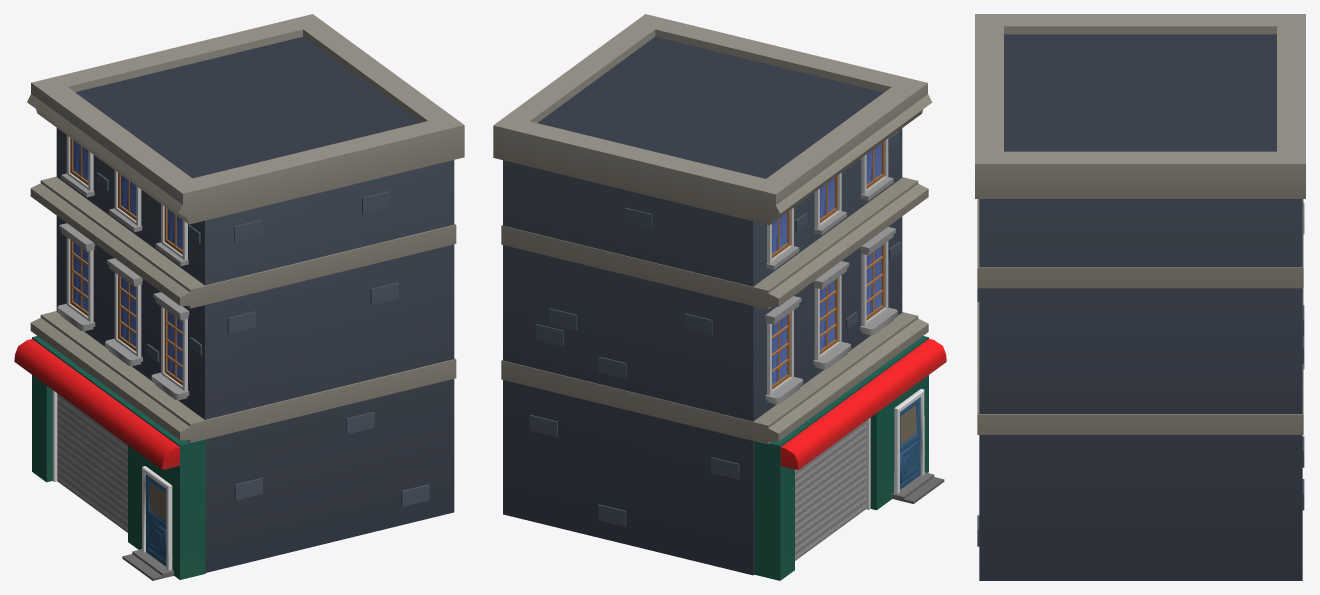
Rendered from Building_19_2_J.fbx.
3 renders of one model, left to right at view 1: azimuth 30°, elevation 25°; view 2: azimuth 150°, elevation 25°; view 3: azimuth 270°, elevation 25°, orthographic. The views are drawn at different scales.
Parts seen in each view (by area): view 1: Building_19_2_J; view 2: Building_19_2_J; view 3: Building_19_2_J.
Part boxes in pixels (x1,y1,x2,y2): Building_19_2_J: (14,14,464,580); Building_19_2_J: (493,14,946,580); Building_19_2_J: (975,14,1305,580).
Size of the model in its own units: 774 by 938 by 667.
